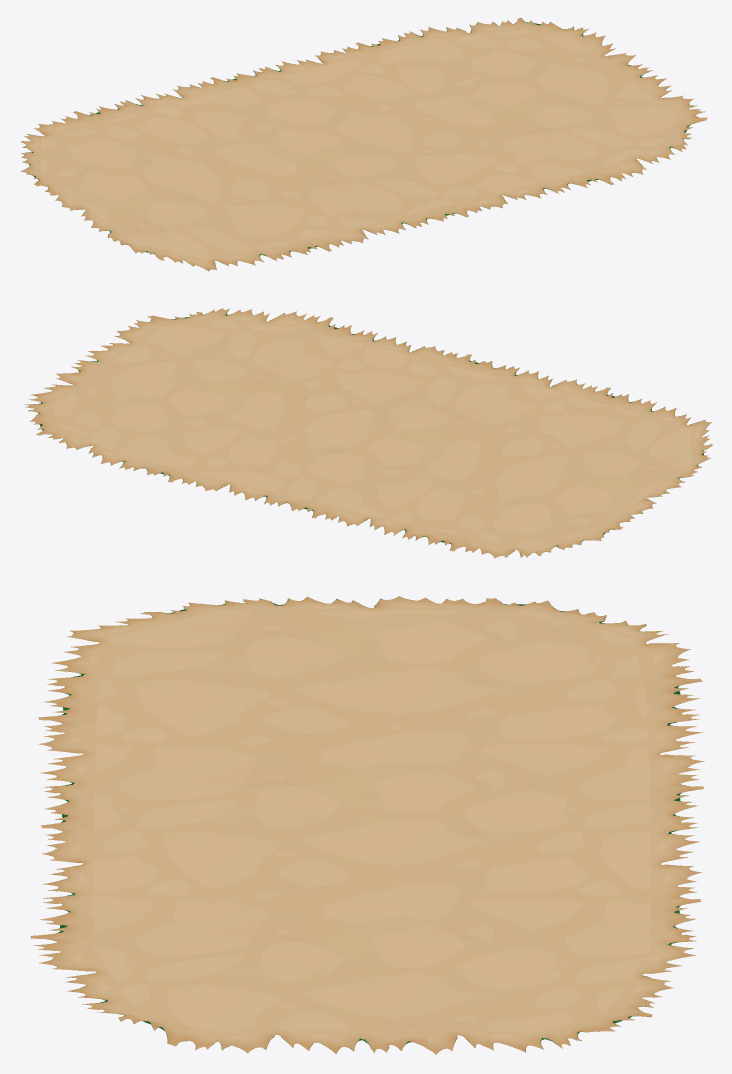
The model's file is Midle Boi.fbx.
3 views of the same model, one above another, from view 1: azimuth 30°, elevation 25°; view 2: azimuth 150°, elevation 25°; view 3: azimuth 270°, elevation 25° (orthographic). The views are drawn at different scales.
Visible parts, largest first — view 1: pPlane3; view 2: pPlane3; view 3: pPlane3.
Part boxes in pixels (x1=…): pPlane3: x1=20, y1=17, x2=707, y2=271; pPlane3: x1=24, y1=308, x2=712, y2=558; pPlane3: x1=30, y1=596, x2=704, y2=1054.
Size of the model in its own units: 2.38 by 1.65e-17 by 1.52.
